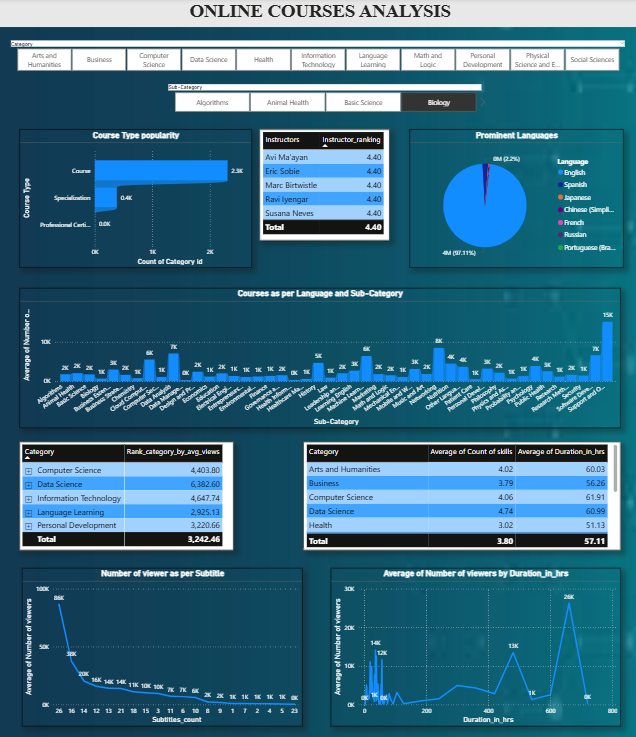

What the dashboard file says about the page in this screenshot:
{"tool":"powerbi","page":{"name":"Page 1","canvas":[1300,1500],"ordinal":0},"visuals":[{"type":"textbox","box":[0,0,1300,58.8],"z":0},{"type":"barChart","title":"Course Type popularity","fields":{"Category":["Online_Courses.Course Type"],"Y":["CountNonNull(Online_Courses.Category id)"]},"box":[44.3,262.9,467.1,278.6],"z":1000},{"type":"columnChart","title":"Courses as per Language and Sub-Category","fields":{"Category":["Online_Courses.Sub-Category","Online_Courses.Language"],"Y":["Avg(Online_Courses.Number of viewers)"]},"box":[45.7,584.3,1208.6,281.4],"z":2000},{"type":"pieChart","title":"Prominent Languages","fields":{"Category":["Online_Courses.Language"],"Y":["Sum(Online_Courses.Category id)"]},"box":[830,262.9,430,278.6],"z":3000},{"type":"pivotTable","fields":{"Rows":["Online_Courses.Category","Online_Courses.Language"],"Values":["Online_Courses.Rank_category_by_avg_views"]},"box":[45.7,891.4,430,218.6],"z":4000},{"type":"slicer","fields":{"Values":["Online_Courses.Category"]},"box":[16.2,81.2,1260,70],"z":5000},{"type":"lineChart","title":"Number of viewer as per Subtitle","fields":{"Category":["Online_Courses.subtitles_count"],"Y":["Avg(Online_Courses.Number of viewers)"]},"box":[50,1145.7,564.3,318.6],"z":6000},{"type":"tableEx","fields":{"Values":["Teachers.Value","Teachers.Instructor_ranking"]},"box":[528.6,262.9,261.4,224.3],"z":7000},{"type":"slicer","fields":{"Values":["Teachers.Sub-Category"]},"box":[331.4,168.6,655.7,67.1],"z":8000},{"type":"lineChart","fields":{"Category":["Online_Courses.Duration_in_hrs"],"Y":["Avg(Online_Courses.Number of viewers)"]},"box":[671.4,1145.7,582.9,318.6],"z":9000},{"type":"tableEx","fields":{"Values":["Online_Courses.Category","Online_Courses.Count of skills","Online_Courses.Duration_in_hrs"]},"box":[615.7,891.4,638.6,218.6],"z":10000}]}

Visuals, with their boxes in screenshot pixels (x1, y1, x2, y2), scaled from the page's 1300x1500 canvas onto the 636x737 screenshot:
textbox: [0,0,635,29]
"Course Type popularity" barChart: [22,129,250,266]
"Courses as per Language and Sub-Category" columnChart: [22,287,614,425]
"Prominent Languages" pieChart: [406,129,616,266]
pivotTable - Online_Courses.Category x Online_Courses.Language: [22,438,233,545]
slicer - Online_Courses.Category: [8,40,624,74]
"Number of viewer as per Subtitle" lineChart: [24,563,301,719]
tableEx - Teachers.Value x Teachers.Instructor_ranking: [259,129,386,239]
slicer - Teachers.Sub-Category: [162,83,483,116]
lineChart - Online_Courses.Duration_in_hrs x Avg(Online_Courses.Number of viewers): [328,563,614,719]
tableEx - Online_Courses.Category x Online_Courses.Count of skills: [301,438,614,545]
